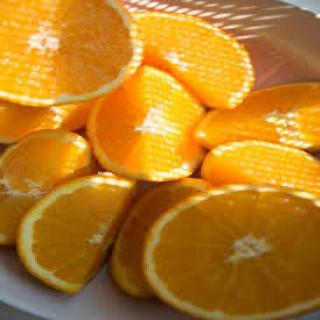orange: (140, 174, 320, 320), (0, 0, 158, 113), (83, 63, 217, 190)
